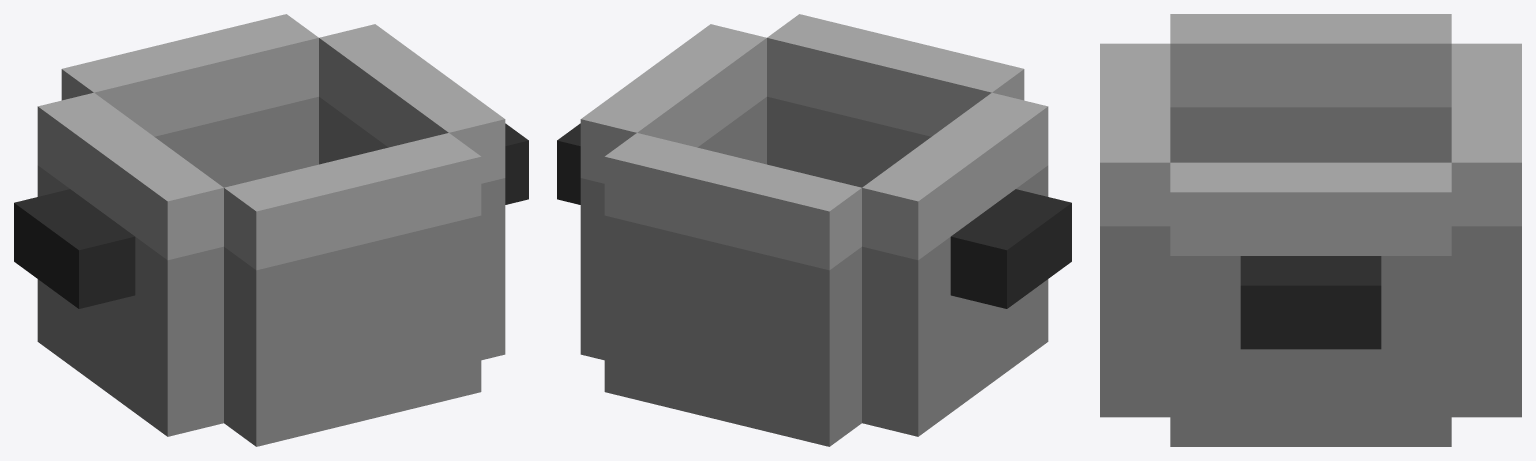
Rendered from PotSmall.obj.
3 renders of one model, left to right at view 1: azimuth 30°, elevation 25°; view 2: azimuth 150°, elevation 25°; view 3: azimuth 270°, elevation 25°, orthographic. The views are drawn at different scales.
Visible parts, largest first — view 1: PotSmall; view 2: PotSmall; view 3: PotSmall.
Part boxes in pixels (left/top/right/bottom): PotSmall: left=14, top=14, right=528, bottom=446; PotSmall: left=557, top=14, right=1071, bottom=446; PotSmall: left=1100, top=14, right=1521, bottom=446.
Bounding box in the file's own units: 8 × 4 × 6.
Materials: 1 (1 with a texture image).
